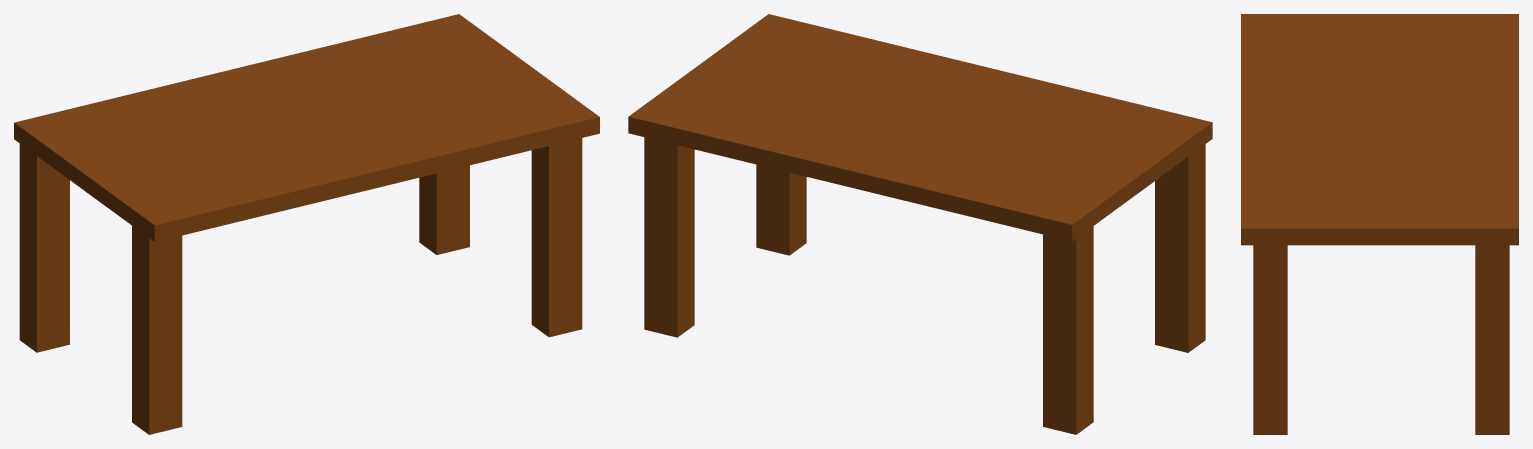
File: UMUM_KAYU_TABLE_BESAR.fbx
3 renders of one model, left to right at view 1: azimuth 30°, elevation 25°; view 2: azimuth 150°, elevation 25°; view 3: azimuth 270°, elevation 25°, orthographic.
Visible parts, largest first — view 1: Cube.032; view 2: Cube.032; view 3: Cube.032.
Part boxes in pixels (left/top/right/bottom): Cube.032: left=14, top=14, right=599, bottom=434; Cube.032: left=628, top=14, right=1212, bottom=434; Cube.032: left=1241, top=14, right=1518, bottom=434.
Bounding box in the file's own units: 344 × 158 × 189.
